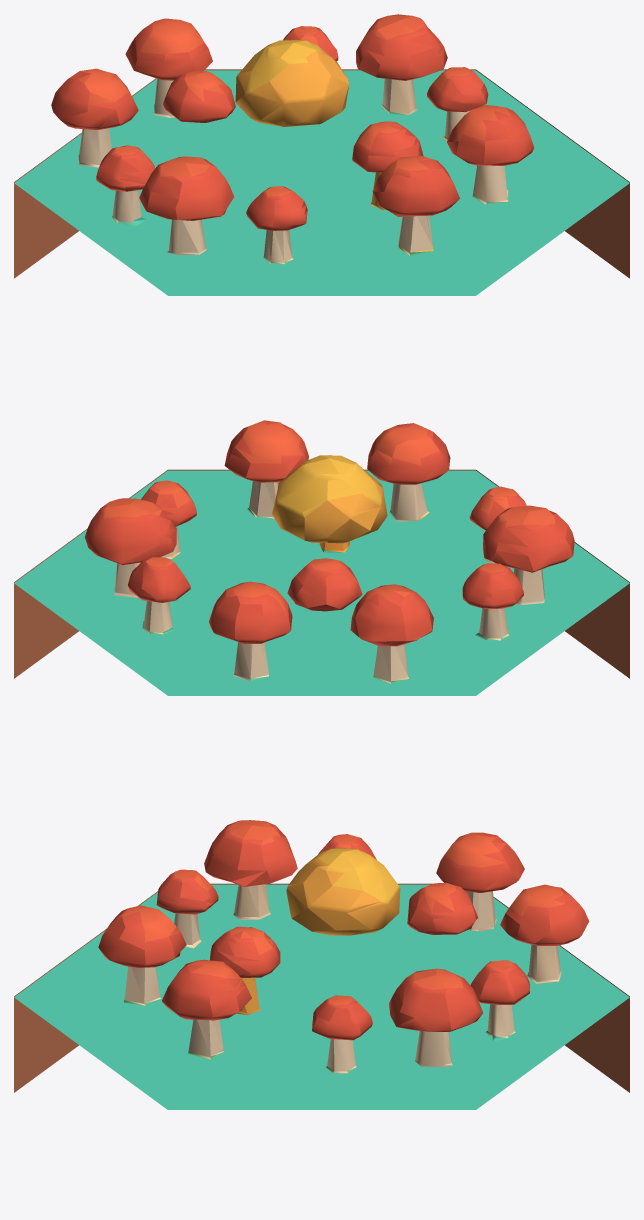
File: a-garden-of-mushrooms.glb
3 views of the same model, one above another, from view 1: azimuth 30°, elevation 25°; view 2: azimuth 150°, elevation 25°; view 3: azimuth 270°, elevation 25° (orthographic).
Visible parts, largest first — view 1: hexBase, recentre; view 2: hexBase, recentre; view 3: hexBase, recentre.
Boxes of the visible parts, bbox=[...] form: hexBase: bbox=[14, 69, 629, 295]; recentre: bbox=[51, 14, 534, 264]; hexBase: bbox=[14, 469, 629, 695]; recentre: bbox=[85, 420, 574, 683]; hexBase: bbox=[14, 883, 629, 1109]; recentre: bbox=[98, 820, 589, 1073].
Bounding box in the file's own units: 1 × 0.4811 × 1.15.
3 materials, 3 textured.
